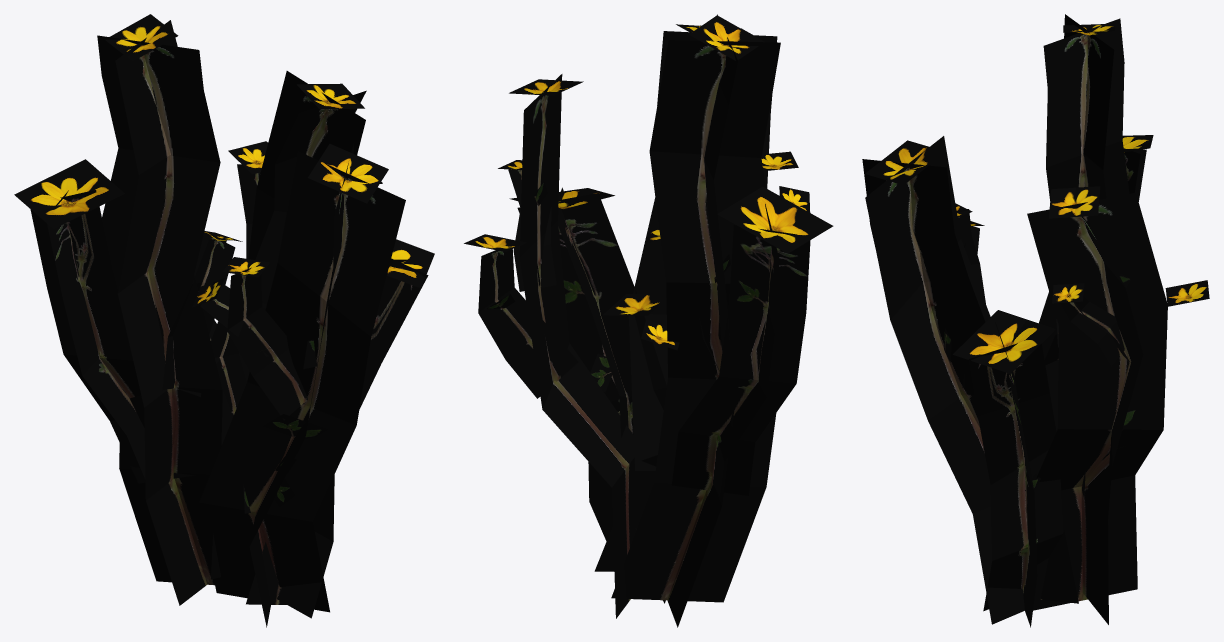
Rendered from flower2.obj.
The picture shows the model from 3 angles, left to right: view 1: azimuth 30°, elevation 25°; view 2: azimuth 150°, elevation 25°; view 3: azimuth 270°, elevation 25°; orthographic projection. The views are drawn at different scales.
Visible parts, largest first — view 1: flower_03_Circle.013; view 2: flower_03_Circle.013; view 3: flower_03_Circle.013.
Part boxes in pixels (left/top/right/bottom): flower_03_Circle.013: left=14, top=14, right=434, bottom=627; flower_03_Circle.013: left=464, top=14, right=833, bottom=627; flower_03_Circle.013: left=862, top=14, right=1209, bottom=627.
Bounding box in the file's own units: 5.54 × 8.92 × 5.12.
